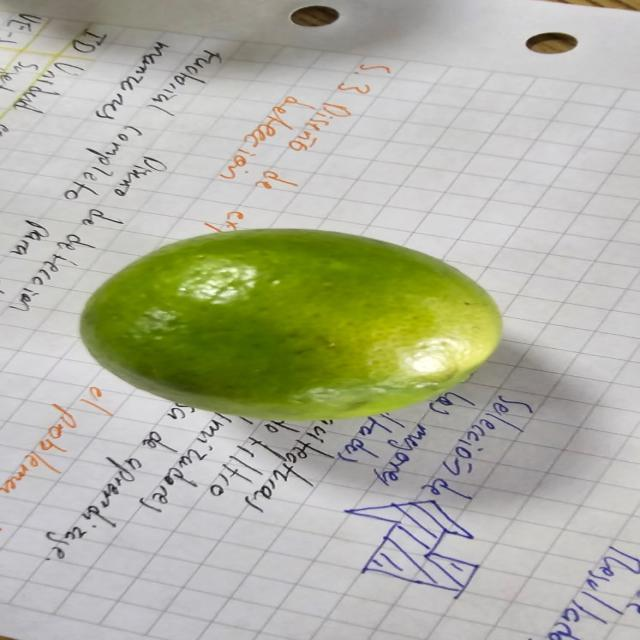Lemon: (68, 219, 520, 422)
